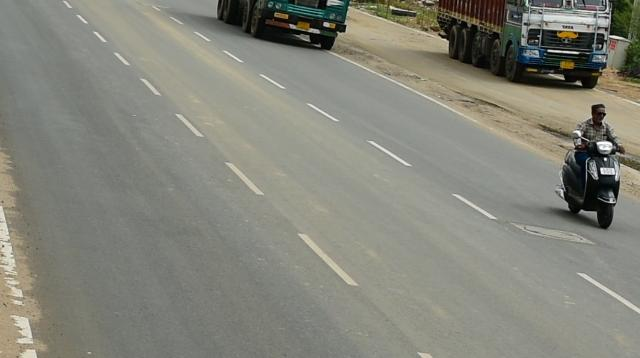Without Helmet: (591, 101, 611, 124)
